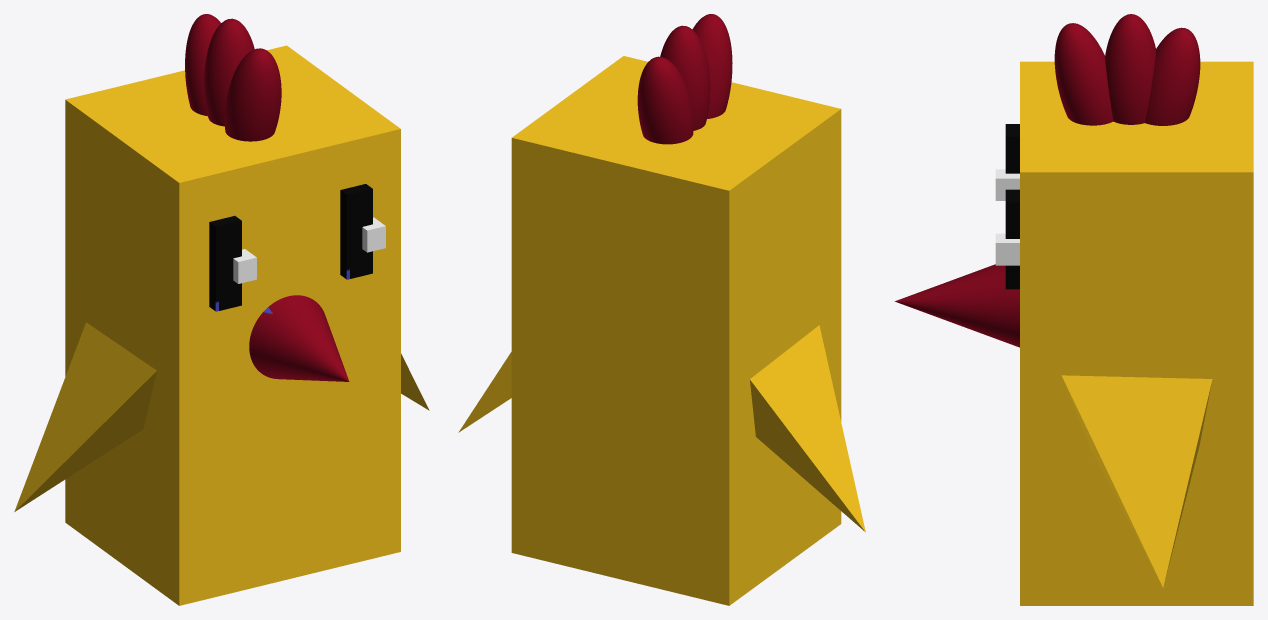
The model's file is Yellow_Chick.fbx.
3 views of the same model, side by side, from view 1: azimuth 30°, elevation 25°; view 2: azimuth 150°, elevation 25°; view 3: azimuth 270°, elevation 25° (orthographic). The views are drawn at different scales.
Parts seen in each view (by area): view 1: node_id242 (×11); view 2: node_id242 (×6); view 3: node_id242 (×10).
Part boxes in pixels (left/top/right/bottom): node_id242 (×11): left=14, top=14, right=429, bottom=605; node_id242 (×6): left=458, top=14, right=865, bottom=605; node_id242 (×10): left=894, top=14, right=1253, bottom=605.
Bounding box in the file's own units: 0.1352 × 0.1618 × 0.0987.
6 materials, 6 textured.
